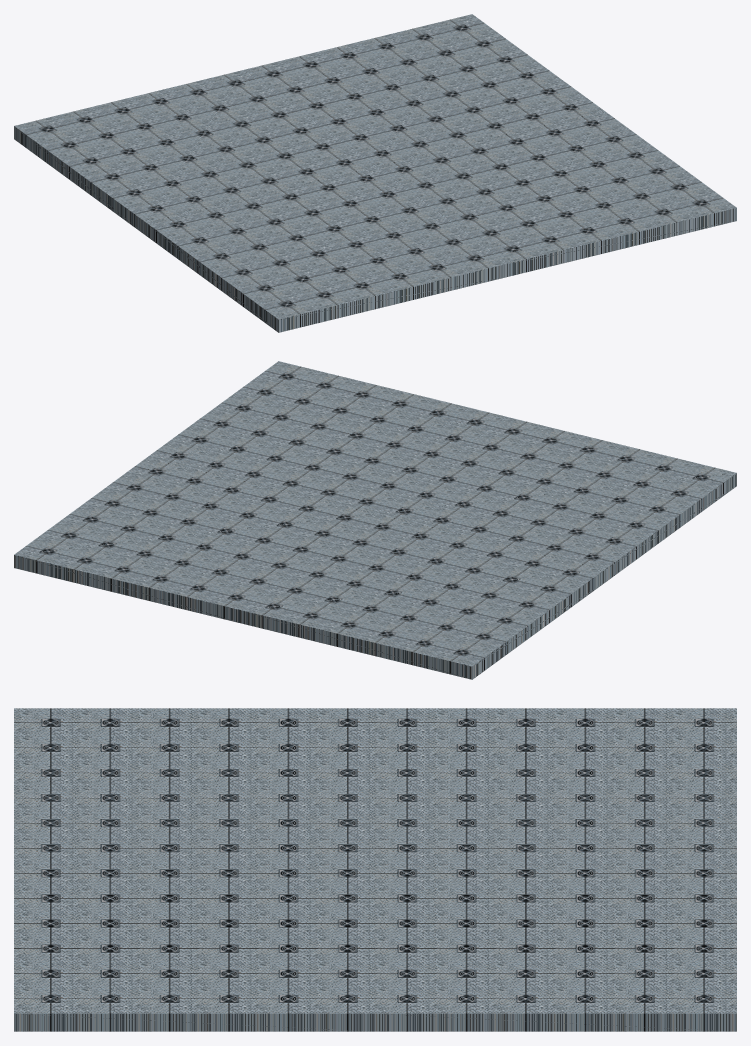
File: RoomFloor.glb
The picture shows the model from 3 angles, top to bottom: view 1: azimuth 30°, elevation 25°; view 2: azimuth 150°, elevation 25°; view 3: azimuth 270°, elevation 25°; orthographic projection. The views are drawn at different scales.
Visible parts, largest first — view 1: Cube; view 2: Cube; view 3: Cube.
Part boxes in pixels (bbox=[...]): Cube: bbox=[14, 14, 736, 332]; Cube: bbox=[14, 361, 736, 679]; Cube: bbox=[14, 708, 736, 1031].
Bounding box in the file's own units: 4.85 × 0.1339 × 4.85.
Materials: 1 (1 with a texture image).
